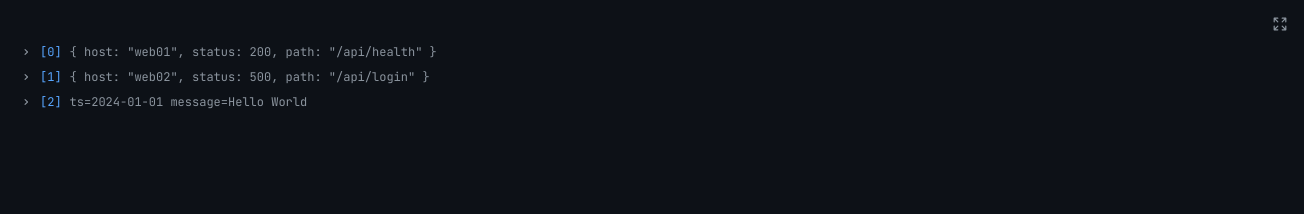
Test case: JsonBrowser › collapses an expanded event on second click
This screenshot has width=1304, height=214.
Click the text "[0]" at (51, 52), box [40,44,62,60]
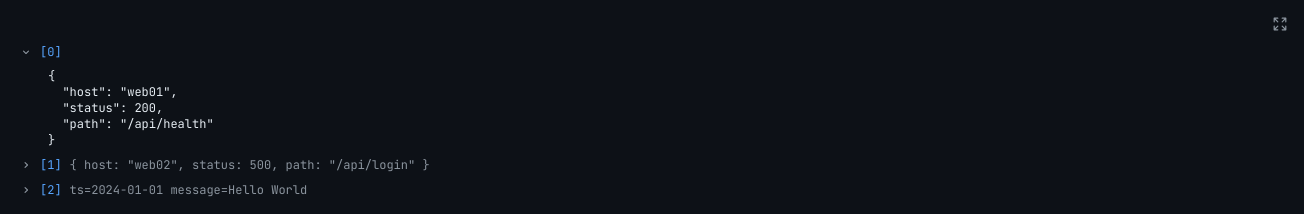
Expected: the text "{ \"host\": \"web01\", \"status\": 200, \"path\": \"/api/health\" }" is shown, [48,68,214,148]
Click the button "[0]" at (26, 52), box [12,40,1292,64]
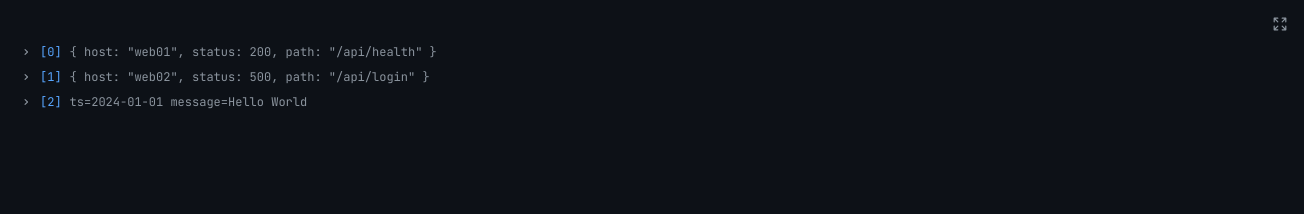
Expected: the text "\"path\": \"/api/health\"" is gone
